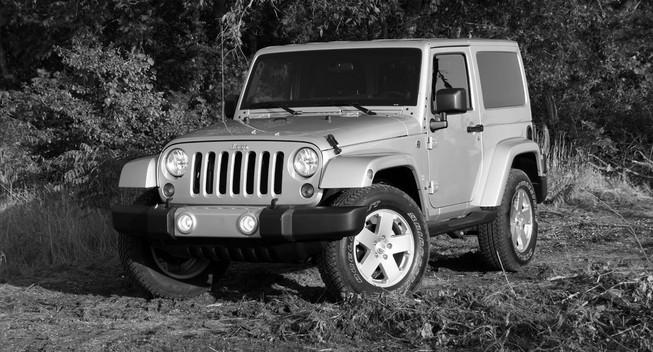car: (111, 31, 554, 305)
